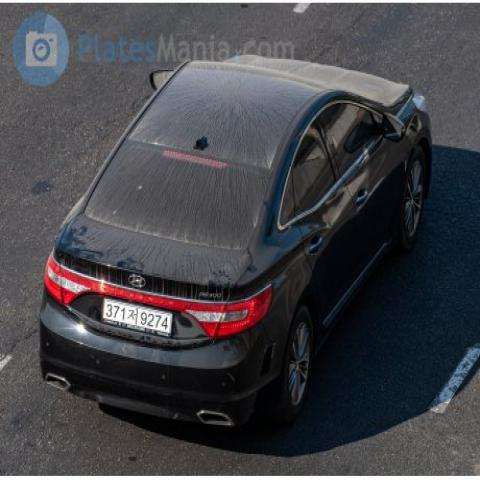LP: (96, 287, 176, 345)
